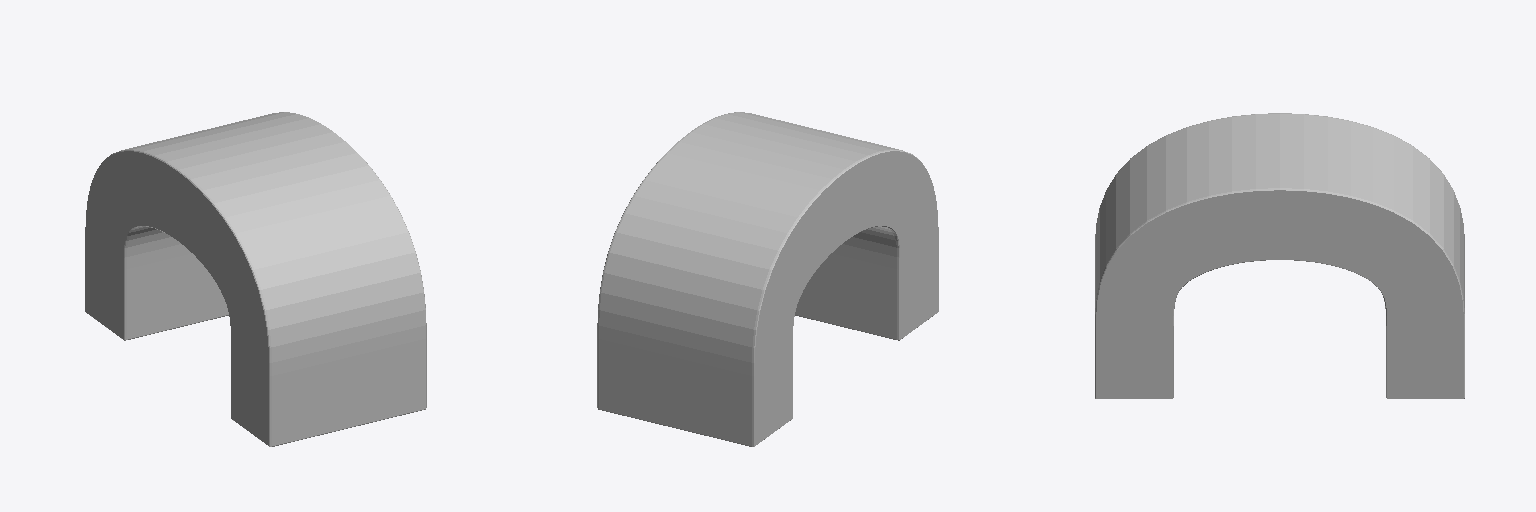
The model's file is C Arch UVed OBJ.obj.
3 renders of one model, left to right at view 1: azimuth 30°, elevation 25°; view 2: azimuth 150°, elevation 25°; view 3: azimuth 270°, elevation 25°, orthographic.
Parts seen in each view (by area): view 1: pCube5; view 2: pCube5; view 3: pCube5.
Part boxes in pixels (bbox=[...]): pCube5: bbox=[85, 112, 426, 446]; pCube5: bbox=[597, 112, 938, 446]; pCube5: bbox=[1095, 113, 1464, 398].
Size of the model in its own units: 195 by 249 by 397.